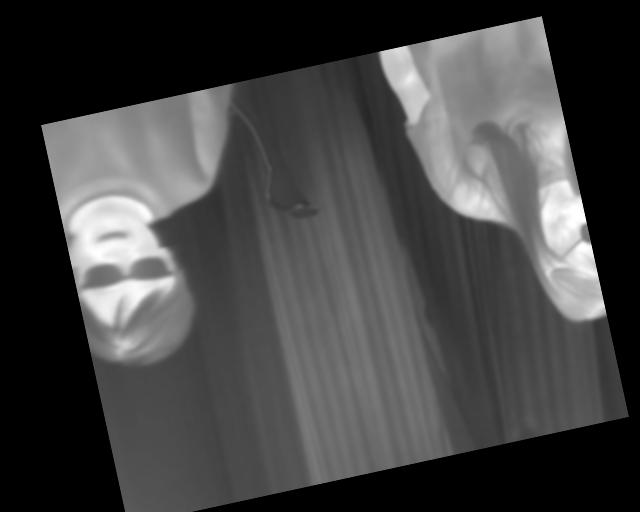face: (62, 196, 203, 375)
